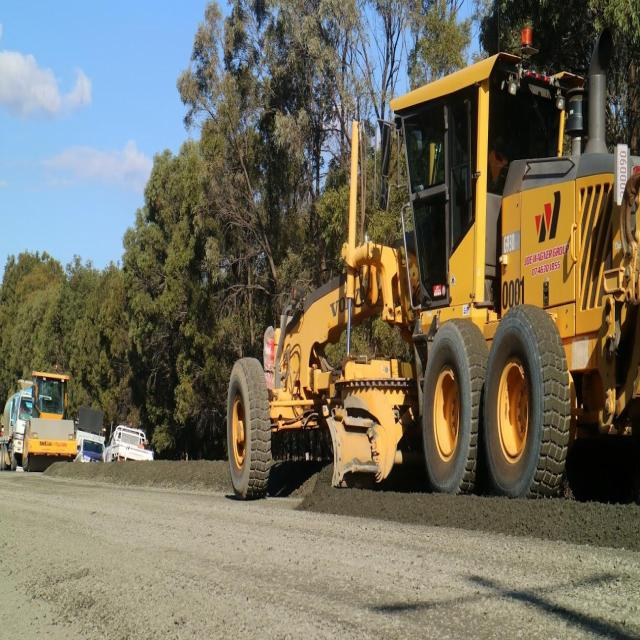Grader: (206, 22, 640, 530)
